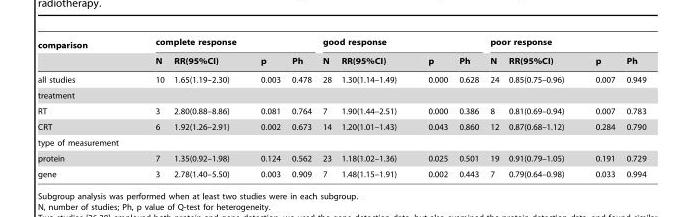table: (37, 37, 645, 178)
table column: (37, 37, 120, 178), (168, 37, 244, 178), (335, 37, 411, 178), (503, 37, 579, 178), (120, 37, 168, 178), (244, 37, 285, 178), (411, 37, 452, 178), (579, 37, 620, 178), (285, 37, 316, 178), (452, 37, 483, 178), (620, 37, 645, 178), (483, 37, 503, 178), (316, 37, 335, 178)
table column header: (37, 37, 645, 70)
table projected row header: (37, 87, 645, 103), (37, 134, 645, 150)
table row: (37, 52, 645, 70), (37, 70, 645, 87), (37, 87, 645, 103), (37, 118, 645, 134), (37, 134, 645, 150), (37, 150, 645, 166), (37, 37, 645, 52), (37, 103, 645, 118), (37, 166, 645, 178)
table spanning cell: (120, 37, 316, 52), (37, 37, 120, 70), (316, 37, 483, 52), (483, 37, 645, 52)
